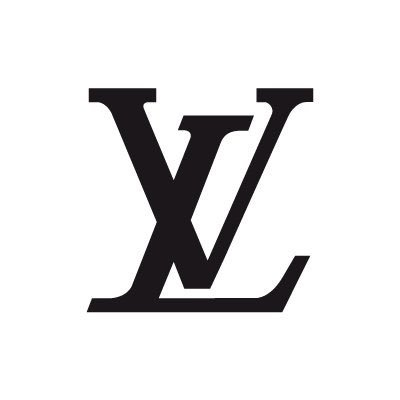LOUIS-VUITTON: (74, 82, 314, 313)
